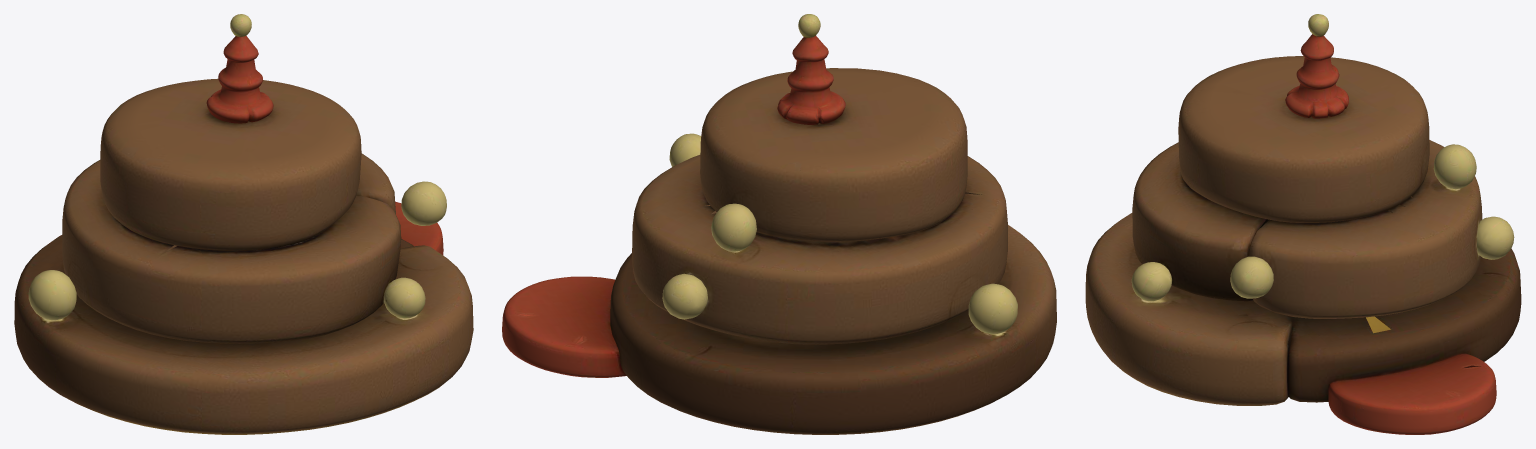
File: env_nest_podium_01.glb
The picture shows the model from 3 angles, left to right: view 1: azimuth 30°, elevation 25°; view 2: azimuth 150°, elevation 25°; view 3: azimuth 270°, elevation 25°; orthographic projection. The views are drawn at different scales.
Parts seen in each view (by area): view 1: env_nest_podium_01; view 2: env_nest_podium_01; view 3: env_nest_podium_01.
Boxes of the visible parts, left/top/right/bottom form: env_nest_podium_01: left=14, top=14, right=473, bottom=434; env_nest_podium_01: left=502, top=14, right=1056, bottom=434; env_nest_podium_01: left=1085, top=14, right=1521, bottom=434.
Size of the model in its own units: 1.65 by 1.2 by 1.46.
Materials: 1 (1 with a texture image).
